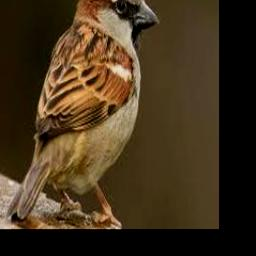Sparrow: (7, 0, 160, 225)
